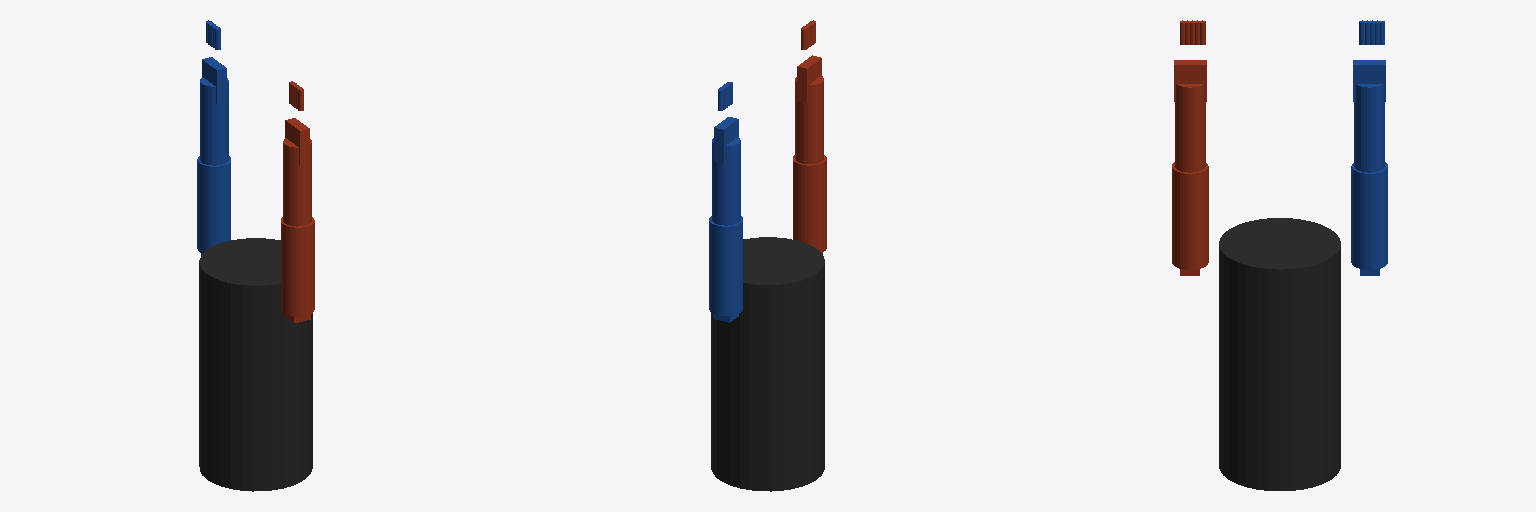
robot.urdf — tracker_robot:
<?xml version="1.0" ?>
<robot name="tracker_robot">
  <link name="world"/>
  <link name="torso">
    <visual>
      <origin xyz="0 0 0.3" rpy="0 0 0"/>
      <geometry>
        <cylinder radius="0.15" length="0.6"/>
      </geometry>
      <material name="torso_mat">
        <color rgba="0.2 0.2 0.2 1"/>
      </material>
    </visual>
    <collision>
      <origin xyz="0 0 0.3" rpy="0 0 0"/>
      <geometry>
        <cylinder radius="0.15" length="0.6"/>
      </geometry>
    </collision>
    <inertial>
      <origin xyz="0 0 0.3" rpy="0 0 0"/>
      <mass value="5.0"/>
      <inertia ixx="0.178125" ixy="0" ixz="0" iyy="0.178125" iyz="0" izz="0.056249999999999994"/>
    </inertial>
  </link>
  <joint name="world_fixed" type="fixed">
    <parent link="world"/>
    <child link="torso"/>
    <origin xyz="0 0 1.0" rpy="0 0 0"/>
  </joint>
  <link name="left_shoulder_stub">
    <visual>
      <origin xyz="0 0 0" rpy="0 0 0"/>
      <geometry>
        <box size="0.05 0.05 0.05"/>
      </geometry>
      <material name="left_shoulder_stub_mat">
        <color rgba="0.15 0.35 0.65 1"/>
      </material>
    </visual>
    <collision>
      <origin xyz="0 0 0" rpy="0 0 0"/>
      <geometry>
        <box size="0.05 0.05 0.05"/>
      </geometry>
    </collision>
    <inertial>
      <origin xyz="0 0 0" rpy="0 0 0"/>
      <mass value="0.3"/>
      <inertia ixx="0.00012500000000000003" ixy="0" ixz="0" iyy="0.00012500000000000003" iyz="0" izz="0.00012500000000000003"/>
    </inertial>
  </link>
  <joint name="left_shoulder_pitch" type="revolute">
    <parent link="torso"/>
    <child link="left_shoulder_stub"/>
    <origin xyz="0 0.22 0.55" rpy="0 0 0"/>
    <axis xyz="0 1 0"/>
    <limit lower="-1.9" upper="1.9" effort="30" velocity="2.0"/>
  </joint>
  <link name="left_upper_arm">
    <visual>
      <origin xyz="0 0 0.13" rpy="0 0 0"/>
      <geometry>
        <cylinder radius="0.045" length="0.26"/>
      </geometry>
      <material name="left_upper_arm_mat">
        <color rgba="0.15 0.35 0.65 1"/>
      </material>
    </visual>
    <collision>
      <origin xyz="0 0 0.13" rpy="0 0 0"/>
      <geometry>
        <cylinder radius="0.045" length="0.26"/>
      </geometry>
    </collision>
    <inertial>
      <origin xyz="0 0 0.13" rpy="0 0 0"/>
      <mass value="0.6"/>
      <inertia ixx="0.00368375" ixy="0" ixz="0" iyy="0.00368375" iyz="0" izz="0.0006075"/>
    </inertial>
  </link>
  <joint name="left_shoulder_roll" type="revolute">
    <parent link="left_shoulder_stub"/>
    <child link="left_upper_arm"/>
    <origin xyz="0 0 0" rpy="0 0 0"/>
    <axis xyz="1 0 0"/>
    <limit lower="-0.2" upper="1.8" effort="30" velocity="2.0"/>
  </joint>
  <link name="left_forearm">
    <visual>
      <origin xyz="0 0 0.115" rpy="0 0 0"/>
      <geometry>
        <cylinder radius="0.038" length="0.23"/>
      </geometry>
      <material name="left_forearm_mat">
        <color rgba="0.15 0.35 0.65 1"/>
      </material>
    </visual>
    <collision>
      <origin xyz="0 0 0.115" rpy="0 0 0"/>
      <geometry>
        <cylinder radius="0.038" length="0.23"/>
      </geometry>
    </collision>
    <inertial>
      <origin xyz="0 0 0.115" rpy="0 0 0"/>
      <mass value="0.4"/>
      <inertia ixx="0.0019077333333333338" ixy="0" ixz="0" iyy="0.0019077333333333338" iyz="0" izz="0.00028879999999999997"/>
    </inertial>
  </link>
  <joint name="left_elbow" type="revolute">
    <parent link="left_upper_arm"/>
    <child link="left_forearm"/>
    <origin xyz="0 0 0.26" rpy="0 0 0"/>
    <axis xyz="0 1 0"/>
    <limit lower="0.0" upper="2.4" effort="30" velocity="2.0"/>
  </joint>
  <link name="left_hand">
    <visual>
      <origin xyz="0 0 0" rpy="0 0 0"/>
      <geometry>
        <box size="0.03 0.08 0.1"/>
      </geometry>
      <material name="left_hand_mat">
        <color rgba="0.15 0.35 0.65 1"/>
      </material>
    </visual>
    <collision>
      <origin xyz="0 0 0" rpy="0 0 0"/>
      <geometry>
        <box size="0.03 0.08 0.1"/>
      </geometry>
    </collision>
    <inertial>
      <origin xyz="0 0 0" rpy="0 0 0"/>
      <mass value="0.15"/>
      <inertia ixx="0.000205" ixy="0" ixz="0" iyy="0.00013625" iyz="0" izz="9.125000000000001e-05"/>
    </inertial>
  </link>
  <joint name="left_wrist" type="revolute">
    <parent link="left_forearm"/>
    <child link="left_hand"/>
    <origin xyz="0 0 0.23" rpy="0 0 0"/>
    <axis xyz="0 1 0"/>
    <limit lower="-1.2" upper="1.2" effort="30" velocity="2.0"/>
  </joint>
  <link name="left_thumb">
    <visual>
      <origin xyz="0 0 0.03" rpy="0 0 0"/>
      <geometry>
        <cylinder radius="0.008" length="0.06"/>
      </geometry>
      <material name="left_thumb_mat">
        <color rgba="0.15 0.35 0.65 1"/>
      </material>
    </visual>
    <collision>
      <origin xyz="0 0 0.03" rpy="0 0 0"/>
      <geometry>
        <cylinder radius="0.008" length="0.06"/>
      </geometry>
    </collision>
    <inertial>
      <origin xyz="0 0 0.03" rpy="0 0 0"/>
      <mass value="0.02"/>
      <inertia ixx="6.32e-06" ixy="0" ixz="0" iyy="6.32e-06" iyz="0" izz="6.4e-07"/>
    </inertial>
  </link>
  <joint name="left_thumb_joint" type="revolute">
    <parent link="left_hand"/>
    <child link="left_thumb"/>
    <origin xyz="0 0.03 0.1" rpy="0 0 0"/>
    <axis xyz="1 0 0"/>
    <limit lower="0.0" upper="1.5" effort="5" velocity="3.0"/>
  </joint>
  <link name="left_index">
    <visual>
      <origin xyz="0 0 0.03" rpy="0 0 0"/>
      <geometry>
        <cylinder radius="0.008" length="0.06"/>
      </geometry>
      <material name="left_index_mat">
        <color rgba="0.15 0.35 0.65 1"/>
      </material>
    </visual>
    <collision>
      <origin xyz="0 0 0.03" rpy="0 0 0"/>
      <geometry>
        <cylinder radius="0.008" length="0.06"/>
      </geometry>
    </collision>
    <inertial>
      <origin xyz="0 0 0.03" rpy="0 0 0"/>
      <mass value="0.02"/>
      <inertia ixx="6.32e-06" ixy="0" ixz="0" iyy="6.32e-06" iyz="0" izz="6.4e-07"/>
    </inertial>
  </link>
  <joint name="left_index_joint" type="revolute">
    <parent link="left_hand"/>
    <child link="left_index"/>
    <origin xyz="0 0.018 0.1" rpy="0 0 0"/>
    <axis xyz="1 0 0"/>
    <limit lower="0.0" upper="1.5" effort="5" velocity="3.0"/>
  </joint>
  <link name="left_middle">
    <visual>
      <origin xyz="0 0 0.03" rpy="0 0 0"/>
      <geometry>
        <cylinder radius="0.008" length="0.06"/>
      </geometry>
      <material name="left_middle_mat">
        <color rgba="0.15 0.35 0.65 1"/>
      </material>
    </visual>
    <collision>
      <origin xyz="0 0 0.03" rpy="0 0 0"/>
      <geometry>
        <cylinder radius="0.008" length="0.06"/>
      </geometry>
    </collision>
    <inertial>
      <origin xyz="0 0 0.03" rpy="0 0 0"/>
      <mass value="0.02"/>
      <inertia ixx="6.32e-06" ixy="0" ixz="0" iyy="6.32e-06" iyz="0" izz="6.4e-07"/>
    </inertial>
  </link>
  <joint name="left_middle_joint" type="revolute">
    <parent link="left_hand"/>
    <child link="left_middle"/>
    <origin xyz="0 0.006 0.1" rpy="0 0 0"/>
    <axis xyz="1 0 0"/>
    <limit lower="0.0" upper="1.5" effort="5" velocity="3.0"/>
  </joint>
  <link name="left_ring">
    <visual>
      <origin xyz="0 0 0.03" rpy="0 0 0"/>
      <geometry>
        <cylinder radius="0.008" length="0.06"/>
      </geometry>
      <material name="left_ring_mat">
        <color rgba="0.15 0.35 0.65 1"/>
      </material>
    </visual>
    <collision>
      <origin xyz="0 0 0.03" rpy="0 0 0"/>
      <geometry>
        <cylinder radius="0.008" length="0.06"/>
      </geometry>
    </collision>
    <inertial>
      <origin xyz="0 0 0.03" rpy="0 0 0"/>
      <mass value="0.02"/>
      <inertia ixx="6.32e-06" ixy="0" ixz="0" iyy="6.32e-06" iyz="0" izz="6.4e-07"/>
    </inertial>
  </link>
  <joint name="left_ring_joint" type="revolute">
    <parent link="left_hand"/>
    <child link="left_ring"/>
    <origin xyz="0 -0.006 0.1" rpy="0 0 0"/>
    <axis xyz="1 0 0"/>
    <limit lower="0.0" upper="1.5" effort="5" velocity="3.0"/>
  </joint>
  <link name="left_pinky">
    <visual>
      <origin xyz="0 0 0.03" rpy="0 0 0"/>
      <geometry>
        <cylinder radius="0.008" length="0.06"/>
      </geometry>
      <material name="left_pinky_mat">
        <color rgba="0.15 0.35 0.65 1"/>
      </material>
    </visual>
    <collision>
      <origin xyz="0 0 0.03" rpy="0 0 0"/>
      <geometry>
        <cylinder radius="0.008" length="0.06"/>
      </geometry>
    </collision>
    <inertial>
      <origin xyz="0 0 0.03" rpy="0 0 0"/>
      <mass value="0.02"/>
      <inertia ixx="6.32e-06" ixy="0" ixz="0" iyy="6.32e-06" iyz="0" izz="6.4e-07"/>
    </inertial>
  </link>
  <joint name="left_pinky_joint" type="revolute">
    <parent link="left_hand"/>
    <child link="left_pinky"/>
    <origin xyz="0 -0.018 0.1" rpy="0 0 0"/>
    <axis xyz="1 0 0"/>
    <limit lower="0.0" upper="1.5" effort="5" velocity="3.0"/>
  </joint>
  <link name="right_shoulder_stub">
    <visual>
      <origin xyz="0 0 0" rpy="0 0 0"/>
      <geometry>
        <box size="0.05 0.05 0.05"/>
      </geometry>
      <material name="right_shoulder_stub_mat">
        <color rgba="0.65 0.25 0.15 1"/>
      </material>
    </visual>
    <collision>
      <origin xyz="0 0 0" rpy="0 0 0"/>
      <geometry>
        <box size="0.05 0.05 0.05"/>
      </geometry>
    </collision>
    <inertial>
      <origin xyz="0 0 0" rpy="0 0 0"/>
      <mass value="0.3"/>
      <inertia ixx="0.00012500000000000003" ixy="0" ixz="0" iyy="0.00012500000000000003" iyz="0" izz="0.00012500000000000003"/>
    </inertial>
  </link>
  <joint name="right_shoulder_pitch" type="revolute">
    <parent link="torso"/>
    <child link="right_shoulder_stub"/>
    <origin xyz="0 -0.22 0.55" rpy="0 0 0"/>
    <axis xyz="0 1 0"/>
    <limit lower="-1.9" upper="1.9" effort="30" velocity="2.0"/>
  </joint>
  <link name="right_upper_arm">
    <visual>
      <origin xyz="0 0 0.13" rpy="0 0 0"/>
      <geometry>
        <cylinder radius="0.045" length="0.26"/>
      </geometry>
      <material name="right_upper_arm_mat">
        <color rgba="0.65 0.25 0.15 1"/>
      </material>
    </visual>
    <collision>
      <origin xyz="0 0 0.13" rpy="0 0 0"/>
      <geometry>
        <cylinder radius="0.045" length="0.26"/>
      </geometry>
    </collision>
    <inertial>
      <origin xyz="0 0 0.13" rpy="0 0 0"/>
      <mass value="0.6"/>
      <inertia ixx="0.00368375" ixy="0" ixz="0" iyy="0.00368375" iyz="0" izz="0.0006075"/>
    </inertial>
  </link>
  <joint name="right_shoulder_roll" type="revolute">
    <parent link="right_shoulder_stub"/>
    <child link="right_upper_arm"/>
    <origin xyz="0 0 0" rpy="0 0 0"/>
    <axis xyz="1 0 0"/>
    <limit lower="-0.2" upper="1.8" effort="30" velocity="2.0"/>
  </joint>
  <link name="right_forearm">
    <visual>
      <origin xyz="0 0 0.115" rpy="0 0 0"/>
      <geometry>
        <cylinder radius="0.038" length="0.23"/>
      </geometry>
      <material name="right_forearm_mat">
        <color rgba="0.65 0.25 0.15 1"/>
      </material>
    </visual>
    <collision>
      <origin xyz="0 0 0.115" rpy="0 0 0"/>
      <geometry>
        <cylinder radius="0.038" length="0.23"/>
      </geometry>
    </collision>
    <inertial>
      <origin xyz="0 0 0.115" rpy="0 0 0"/>
      <mass value="0.4"/>
      <inertia ixx="0.0019077333333333338" ixy="0" ixz="0" iyy="0.0019077333333333338" iyz="0" izz="0.00028879999999999997"/>
    </inertial>
  </link>
  <joint name="right_elbow" type="revolute">
    <parent link="right_upper_arm"/>
    <child link="right_forearm"/>
    <origin xyz="0 0 0.26" rpy="0 0 0"/>
    <axis xyz="0 1 0"/>
    <limit lower="0.0" upper="2.4" effort="30" velocity="2.0"/>
  </joint>
  <link name="right_hand">
    <visual>
      <origin xyz="0 0 0" rpy="0 0 0"/>
      <geometry>
        <box size="0.03 0.08 0.1"/>
      </geometry>
      <material name="right_hand_mat">
        <color rgba="0.65 0.25 0.15 1"/>
      </material>
    </visual>
    <collision>
      <origin xyz="0 0 0" rpy="0 0 0"/>
      <geometry>
        <box size="0.03 0.08 0.1"/>
      </geometry>
    </collision>
    <inertial>
      <origin xyz="0 0 0" rpy="0 0 0"/>
      <mass value="0.15"/>
      <inertia ixx="0.000205" ixy="0" ixz="0" iyy="0.00013625" iyz="0" izz="9.125000000000001e-05"/>
    </inertial>
  </link>
  <joint name="right_wrist" type="revolute">
    <parent link="right_forearm"/>
    <child link="right_hand"/>
    <origin xyz="0 0 0.23" rpy="0 0 0"/>
    <axis xyz="0 1 0"/>
    <limit lower="-1.2" upper="1.2" effort="30" velocity="2.0"/>
  </joint>
  <link name="right_thumb">
    <visual>
      <origin xyz="0 0 0.03" rpy="0 0 0"/>
      <geometry>
        <cylinder radius="0.008" length="0.06"/>
      </geometry>
      <material name="right_thumb_mat">
        <color rgba="0.65 0.25 0.15 1"/>
      </material>
    </visual>
    <collision>
      <origin xyz="0 0 0.03" rpy="0 0 0"/>
      <geometry>
        <cylinder radius="0.008" length="0.06"/>
      </geometry>
    </collision>
    <inertial>
      <origin xyz="0 0 0.03" rpy="0 0 0"/>
      <mass value="0.02"/>
      <inertia ixx="6.32e-06" ixy="0" ixz="0" iyy="6.32e-06" iyz="0" izz="6.4e-07"/>
    </inertial>
  </link>
  <joint name="right_thumb_joint" type="revolute">
    <parent link="right_hand"/>
    <child link="right_thumb"/>
    <origin xyz="0 0.03 0.1" rpy="0 0 0"/>
    <axis xyz="1 0 0"/>
    <limit lower="0.0" upper="1.5" effort="5" velocity="3.0"/>
  </joint>
  <link name="right_index">
    <visual>
      <origin xyz="0 0 0.03" rpy="0 0 0"/>
      <geometry>
        <cylinder radius="0.008" length="0.06"/>
      </geometry>
      <material name="right_index_mat">
        <color rgba="0.65 0.25 0.15 1"/>
      </material>
    </visual>
    <collision>
      <origin xyz="0 0 0.03" rpy="0 0 0"/>
      <geometry>
        <cylinder radius="0.008" length="0.06"/>
      </geometry>
    </collision>
    <inertial>
      <origin xyz="0 0 0.03" rpy="0 0 0"/>
      <mass value="0.02"/>
      <inertia ixx="6.32e-06" ixy="0" ixz="0" iyy="6.32e-06" iyz="0" izz="6.4e-07"/>
    </inertial>
  </link>
  <joint name="right_index_joint" type="revolute">
    <parent link="right_hand"/>
    <child link="right_index"/>
    <origin xyz="0 0.018 0.1" rpy="0 0 0"/>
    <axis xyz="1 0 0"/>
    <limit lower="0.0" upper="1.5" effort="5" velocity="3.0"/>
  </joint>
  <link name="right_middle">
    <visual>
      <origin xyz="0 0 0.03" rpy="0 0 0"/>
      <geometry>
        <cylinder radius="0.008" length="0.06"/>
      </geometry>
      <material name="right_middle_mat">
        <color rgba="0.65 0.25 0.15 1"/>
      </material>
    </visual>
    <collision>
      <origin xyz="0 0 0.03" rpy="0 0 0"/>
      <geometry>
        <cylinder radius="0.008" length="0.06"/>
      </geometry>
    </collision>
    <inertial>
      <origin xyz="0 0 0.03" rpy="0 0 0"/>
      <mass value="0.02"/>
      <inertia ixx="6.32e-06" ixy="0" ixz="0" iyy="6.32e-06" iyz="0" izz="6.4e-07"/>
    </inertial>
  </link>
  <joint name="right_middle_joint" type="revolute">
    <parent link="right_hand"/>
    <child link="right_middle"/>
    <origin xyz="0 0.006 0.1" rpy="0 0 0"/>
    <axis xyz="1 0 0"/>
    <limit lower="0.0" upper="1.5" effort="5" velocity="3.0"/>
  </joint>
  <link name="right_ring">
    <visual>
      <origin xyz="0 0 0.03" rpy="0 0 0"/>
      <geometry>
        <cylinder radius="0.008" length="0.06"/>
      </geometry>
      <material name="right_ring_mat">
        <color rgba="0.65 0.25 0.15 1"/>
      </material>
    </visual>
    <collision>
      <origin xyz="0 0 0.03" rpy="0 0 0"/>
      <geometry>
        <cylinder radius="0.008" length="0.06"/>
      </geometry>
    </collision>
    <inertial>
      <origin xyz="0 0 0.03" rpy="0 0 0"/>
      <mass value="0.02"/>
      <inertia ixx="6.32e-06" ixy="0" ixz="0" iyy="6.32e-06" iyz="0" izz="6.4e-07"/>
    </inertial>
  </link>
  <joint name="right_ring_joint" type="revolute">
    <parent link="right_hand"/>
    <child link="right_ring"/>
    <origin xyz="0 -0.006 0.1" rpy="0 0 0"/>
    <axis xyz="1 0 0"/>
    <limit lower="0.0" upper="1.5" effort="5" velocity="3.0"/>
  </joint>
  <link name="right_pinky">
    <visual>
      <origin xyz="0 0 0.03" rpy="0 0 0"/>
      <geometry>
        <cylinder radius="0.008" length="0.06"/>
      </geometry>
      <material name="right_pinky_mat">
        <color rgba="0.65 0.25 0.15 1"/>
      </material>
    </visual>
    <collision>
      <origin xyz="0 0 0.03" rpy="0 0 0"/>
      <geometry>
        <cylinder radius="0.008" length="0.06"/>
      </geometry>
    </collision>
    <inertial>
      <origin xyz="0 0 0.03" rpy="0 0 0"/>
      <mass value="0.02"/>
      <inertia ixx="6.32e-06" ixy="0" ixz="0" iyy="6.32e-06" iyz="0" izz="6.4e-07"/>
    </inertial>
  </link>
  <joint name="right_pinky_joint" type="revolute">
    <parent link="right_hand"/>
    <child link="right_pinky"/>
    <origin xyz="0 -0.018 0.1" rpy="0 0 0"/>
    <axis xyz="1 0 0"/>
    <limit lower="0.0" upper="1.5" effort="5" velocity="3.0"/>
  </joint>
  <ros2_control name="tracker_robot_system" type="system">
    <hardware>
      <plugin>gz_ros2_control/GazeboSimSystem</plugin>
    </hardware>
    <joint name="left_shoulder_pitch">
      <command_interface name="position">
        <param name="min">-3.2</param>
        <param name="max">3.2</param>
      </command_interface>
      <state_interface name="position"/>
      <state_interface name="velocity"/>
    </joint>
    <joint name="left_shoulder_roll">
      <command_interface name="position">
        <param name="min">-3.2</param>
        <param name="max">3.2</param>
      </command_interface>
      <state_interface name="position"/>
      <state_interface name="velocity"/>
    </joint>
    <joint name="left_elbow">
      <command_interface name="position">
        <param name="min">-3.2</param>
        <param name="max">3.2</param>
      </command_interface>
      <state_interface name="position"/>
      <state_interface name="velocity"/>
    </joint>
    <joint name="left_wrist">
      <command_interface name="position">
        <param name="min">-3.2</param>
        <param name="max">3.2</param>
      </command_interface>
      <state_interface name="position"/>
      <state_interface name="velocity"/>
    </joint>
    <joint name="left_thumb_joint">
      <command_interface name="position">
        <param name="min">-3.2</param>
        <param name="max">3.2</param>
      </command_interface>
      <state_interface name="position"/>
      <state_interface name="velocity"/>
    </joint>
    <joint name="left_index_joint">
      <command_interface name="position">
        <param name="min">-3.2</param>
        <param name="max">3.2</param>
      </command_interface>
      <state_interface name="position"/>
      <state_interface name="velocity"/>
    </joint>
    <joint name="left_middle_joint">
      <command_interface name="position">
        <param name="min">-3.2</param>
        <param name="max">3.2</param>
      </command_interface>
      <state_interface name="position"/>
      <state_interface name="velocity"/>
    </joint>
    <joint name="left_ring_joint">
      <command_interface name="position">
        <param name="min">-3.2</param>
        <param name="max">3.2</param>
      </command_interface>
      <state_interface name="position"/>
      <state_interface name="velocity"/>
    </joint>
    <joint name="left_pinky_joint">
      <command_interface name="position">
        <param name="min">-3.2</param>
        <param name="max">3.2</param>
      </command_interface>
      <state_interface name="position"/>
      <state_interface name="velocity"/>
    </joint>
    <joint name="right_shoulder_pitch">
      <command_interface name="position">
        <param name="min">-3.2</param>
        <param name="max">3.2</param>
      </command_interface>
      <state_interface name="position"/>
      <state_interface name="velocity"/>
    </joint>
    <joint name="right_shoulder_roll">
      <command_interface name="position">
        <param name="min">-3.2</param>
        <param name="max">3.2</param>
      </command_interface>
      <state_interface name="position"/>
      <state_interface name="velocity"/>
    </joint>
    <joint name="right_elbow">
      <command_interface name="position">
        <param name="min">-3.2</param>
        <param name="max">3.2</param>
      </command_interface>
      <state_interface name="position"/>
      <state_interface name="velocity"/>
    </joint>
    <joint name="right_wrist">
      <command_interface name="position">
        <param name="min">-3.2</param>
        <param name="max">3.2</param>
      </command_interface>
      <state_interface name="position"/>
      <state_interface name="velocity"/>
    </joint>
    <joint name="right_thumb_joint">
      <command_interface name="position">
        <param name="min">-3.2</param>
        <param name="max">3.2</param>
      </command_interface>
      <state_interface name="position"/>
      <state_interface name="velocity"/>
    </joint>
    <joint name="right_index_joint">
      <command_interface name="position">
        <param name="min">-3.2</param>
        <param name="max">3.2</param>
      </command_interface>
      <state_interface name="position"/>
      <state_interface name="velocity"/>
    </joint>
    <joint name="right_middle_joint">
      <command_interface name="position">
        <param name="min">-3.2</param>
        <param name="max">3.2</param>
      </command_interface>
      <state_interface name="position"/>
      <state_interface name="velocity"/>
    </joint>
    <joint name="right_ring_joint">
      <command_interface name="position">
        <param name="min">-3.2</param>
        <param name="max">3.2</param>
      </command_interface>
      <state_interface name="position"/>
      <state_interface name="velocity"/>
    </joint>
    <joint name="right_pinky_joint">
      <command_interface name="position">
        <param name="min">-3.2</param>
        <param name="max">3.2</param>
      </command_interface>
      <state_interface name="position"/>
      <state_interface name="velocity"/>
    </joint>
  </ros2_control>
  <gazebo>
    <plugin filename="gz_ros2_control-system" name="gz_ros2_control::GazeboSimROS2ControlPlugin">
      <parameters>__CONTROLLERS_YAML_PATH__</parameters>
    </plugin>
  </gazebo>
</robot>

--- What the picture shows (computed from the rendered views, not written in the file) ---
The picture shows the robot from 3 angles, left to right: view 1: azimuth 30°, elevation 25°; view 2: azimuth 150°, elevation 25°; view 3: azimuth 270°, elevation 25°; orthographic projection.
Model tracker_robot with 20 links and 19 joints (18 revolute, 1 fixed), rooted at world, posed all joints at 0.
Visible links, largest first — view 1: torso, right_upper_arm, left_upper_arm, left_forearm, right_forearm, left_hand, right_hand; view 2: torso, left_upper_arm, right_upper_arm, left_forearm, right_forearm, left_hand, right_hand; view 3: torso, left_upper_arm, right_upper_arm, left_forearm, right_forearm, left_hand, right_hand.
Boxes of the visible links, x1,y1,x2,y2 form: torso: (199,238,312,491); right_upper_arm: (281,217,314,316); left_upper_arm: (197,156,230,253); left_forearm: (200,77,228,165); right_forearm: (283,138,311,226); left_hand: (202,57,226,104); right_hand: (285,118,309,164); torso: (711,237,824,491); left_upper_arm: (709,216,742,315); right_upper_arm: (793,155,826,252); left_forearm: (712,137,740,225); right_forearm: (795,76,823,163); left_hand: (714,117,738,163); right_hand: (797,55,821,102); torso: (1219,218,1340,490); left_upper_arm: (1351,162,1387,269); right_upper_arm: (1172,162,1208,269); left_forearm: (1354,84,1384,172); right_forearm: (1175,84,1205,172); left_hand: (1353,60,1385,101); right_hand: (1174,60,1206,101).
Bounding box of the posed robot: 0.3 × 0.53 × 1.2 m (x, y, z).
Geometry: primitives only (box / cylinder / sphere), no mesh files.
